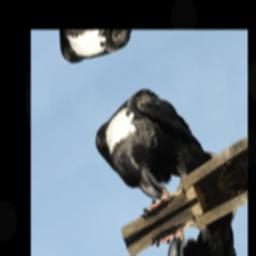Crow: (84, 61, 224, 231)
